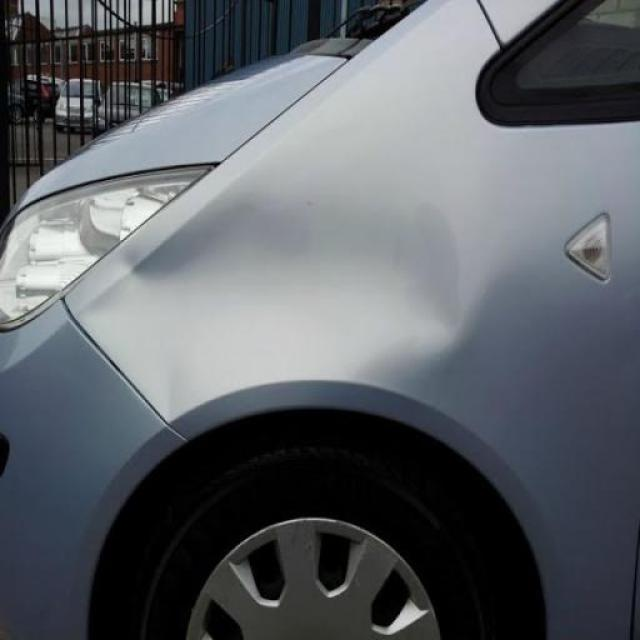dent: (65, 169, 472, 422)
